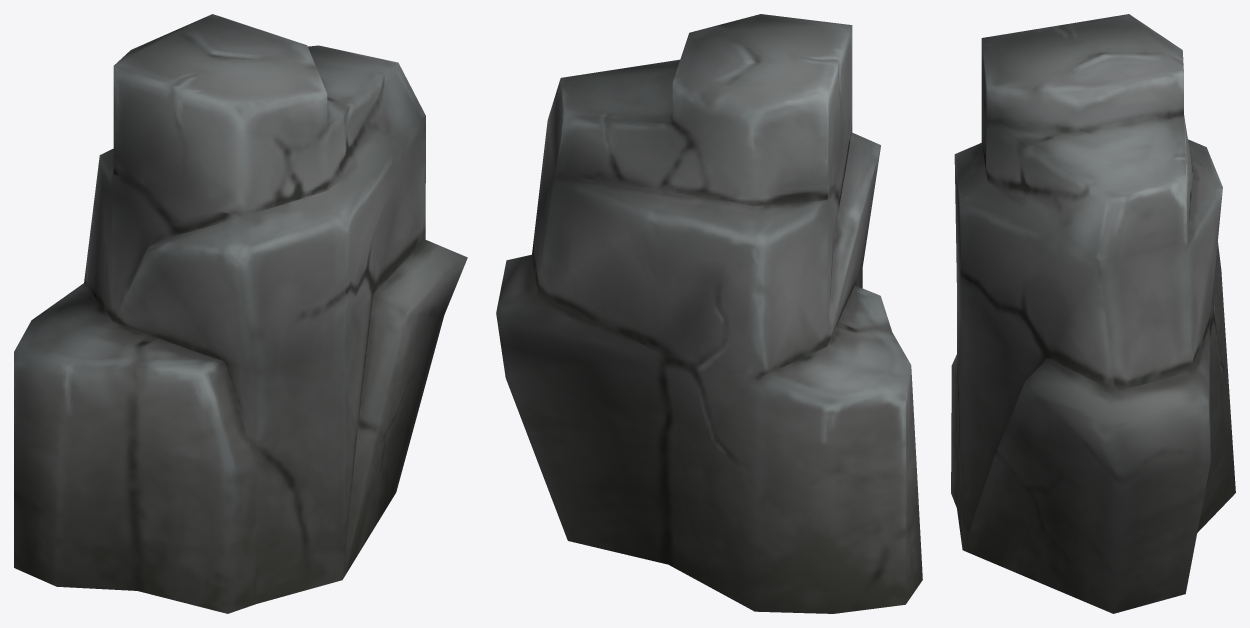
The model's file is Rock_formation2.fbx.
The picture shows the model from 3 angles, left to right: view 1: azimuth 30°, elevation 25°; view 2: azimuth 150°, elevation 25°; view 3: azimuth 270°, elevation 25°; orthographic projection. The views are drawn at different scales.
Visible parts, largest first — view 1: rock_lp_08; view 2: rock_lp_08; view 3: rock_lp_08.
Boxes of the visible parts, box(x1,y1,x2,y2) form: rock_lp_08: box(14, 14, 467, 613); rock_lp_08: box(496, 14, 922, 613); rock_lp_08: box(951, 14, 1235, 613).
Size of the model in its own units: 1.61 by 1.76 by 0.963.
